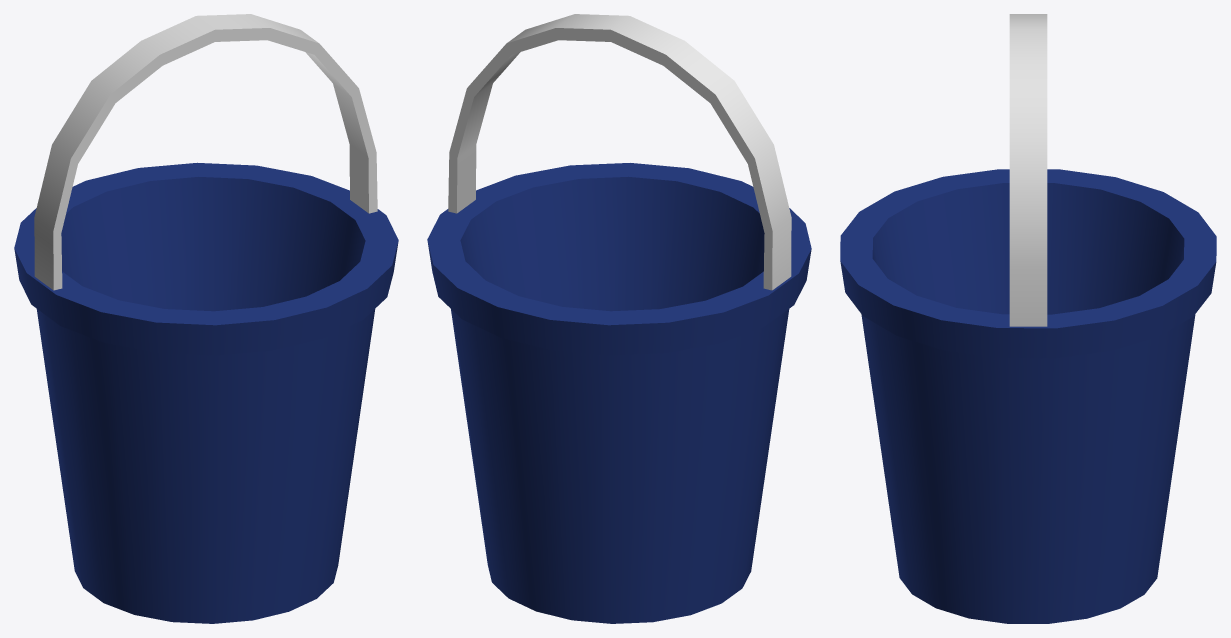
File: Bucket Complete.fbx
The picture shows the model from 3 angles, left to right: view 1: azimuth 30°, elevation 25°; view 2: azimuth 150°, elevation 25°; view 3: azimuth 270°, elevation 25°; orthographic projection.
Parts seen in each view (by area): view 1: pCylinder1, pCylinder2; view 2: pCylinder1, pCylinder2; view 3: pCylinder1, pCylinder2.
Boxes of the visible parts, left/top/right/bottom form: pCylinder1: left=14, top=162, right=398, bottom=623; pCylinder2: left=34, top=14, right=377, bottom=290; pCylinder1: left=427, top=163, right=811, bottom=623; pCylinder2: left=448, top=14, right=791, bottom=290; pCylinder1: left=840, top=169, right=1216, bottom=623; pCylinder2: left=1009, top=14, right=1047, bottom=326.
Bounding box in the file's own units: 2.13 × 3.37 × 2.13.
